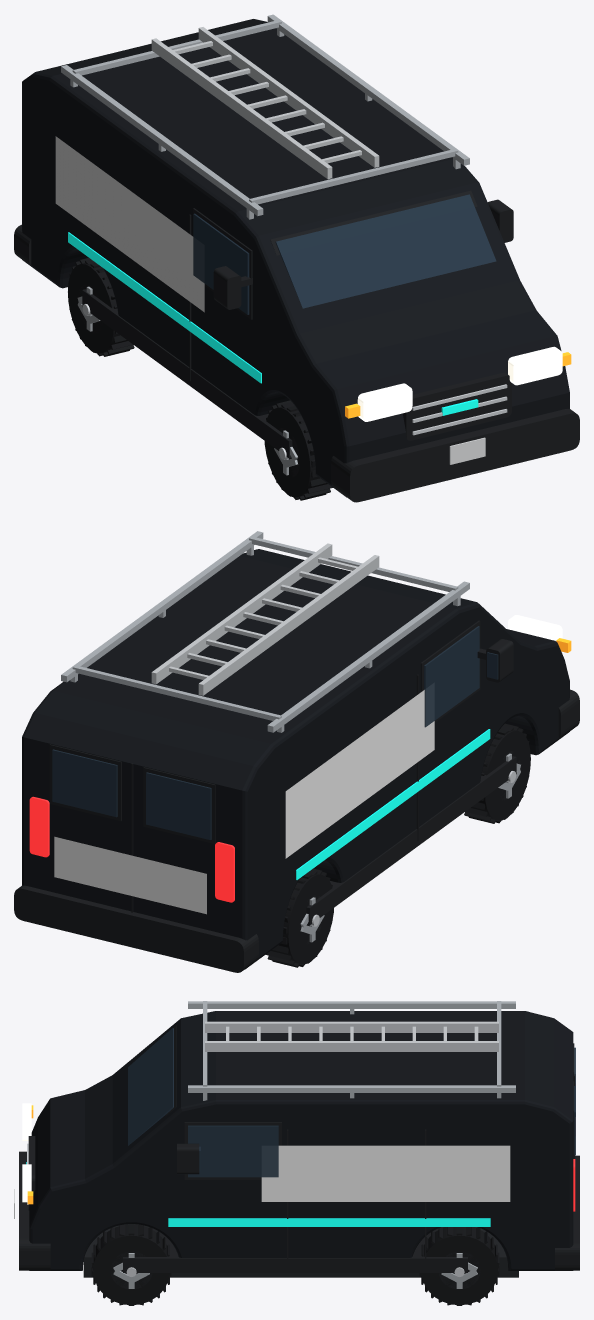
Rendered from compact-van.glb.
3 renders of one model, top to bottom at view 1: azimuth 30°, elevation 25°; view 2: azimuth 150°, elevation 25°; view 3: azimuth 270°, elevation 25°, orthographic. The views are drawn at different scales.
Visible parts, largest first — view 1: body_paint, body_plastic-dark, body_glass, body_decal-left, rack_steel, rack_aluminum, body_headlight, wheel_fl_rubber, wheel_rl_rubber, body_accent, body_chrome, body_white; view 2: body_paint, body_plastic-dark, body_glass, body_decal-left, rack_steel, rack_aluminum, body_decal-rear, wheel_rl_rubber, wheel_fl_rubber, body_taillight, body_accent, body_headlight; view 3: body_paint, body_decal-right, body_plastic-dark, body_glass, rack_aluminum, rack_steel, wheel_fr_rubber, wheel_rr_rubber, body_accent, body_underbody, body_headlight, wheel_fr_plastic-dark (+1 smaller).
Part boxes in pixels (box(x1,y1,x2,y2)): body_paint: box(22, 19, 569, 497); body_plastic-dark: box(14, 190, 579, 502); body_glass: box(193, 194, 496, 314); body_decal-left: box(55, 136, 204, 312); rack_steel: box(61, 14, 469, 219); rack_aluminum: box(151, 27, 379, 179); body_headlight: box(357, 346, 562, 421); wheel_fl_rubber: box(264, 400, 332, 500); wheel_rl_rubber: box(68, 258, 134, 356); body_accent: box(68, 232, 478, 415); body_chrome: box(412, 384, 507, 435); body_white: box(449, 437, 485, 464); body_paint: box(22, 549, 569, 969); body_plastic-dark: box(14, 620, 579, 972); body_glass: box(52, 626, 498, 839); body_decal-left: box(285, 690, 434, 858); rack_steel: box(61, 531, 469, 732); rack_aluminum: box(151, 543, 379, 695); body_decal-rear: box(54, 836, 206, 914); wheel_rl_rubber: box(265, 868, 333, 967); wheel_fl_rubber: box(464, 723, 530, 823); body_taillight: box(29, 796, 234, 902); body_accent: box(296, 729, 490, 879); body_headlight: box(508, 615, 562, 640); body_paint: box(29, 1011, 573, 1270); body_decal-right: box(261, 1145, 510, 1201); body_plastic-dark: box(19, 1025, 579, 1272); body_glass: box(128, 1028, 575, 1177); rack_aluminum: box(205, 1021, 498, 1051); rack_steel: box(188, 1001, 515, 1100); wheel_fr_rubber: box(91, 1224, 171, 1305); wheel_rr_rubber: box(419, 1227, 499, 1305); body_accent: box(26, 1162, 490, 1226); body_underbody: box(83, 1225, 518, 1277); body_headlight: box(22, 1103, 31, 1202); wheel_fr_plastic-dark: box(110, 1251, 152, 1289).
Bounding box in the file's own units: 2.44 × 2.24 × 5.
